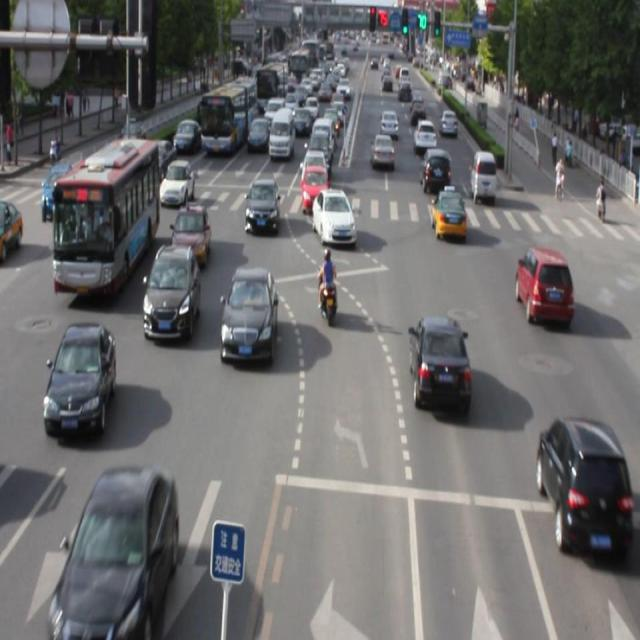car: (57, 464, 175, 640), (538, 418, 629, 553), (43, 322, 116, 438), (409, 312, 469, 410), (143, 242, 199, 341), (220, 265, 276, 364), (514, 247, 570, 322), (310, 188, 357, 246), (171, 204, 210, 264), (246, 177, 278, 233), (432, 184, 464, 237)
van: (53, 138, 158, 295)
